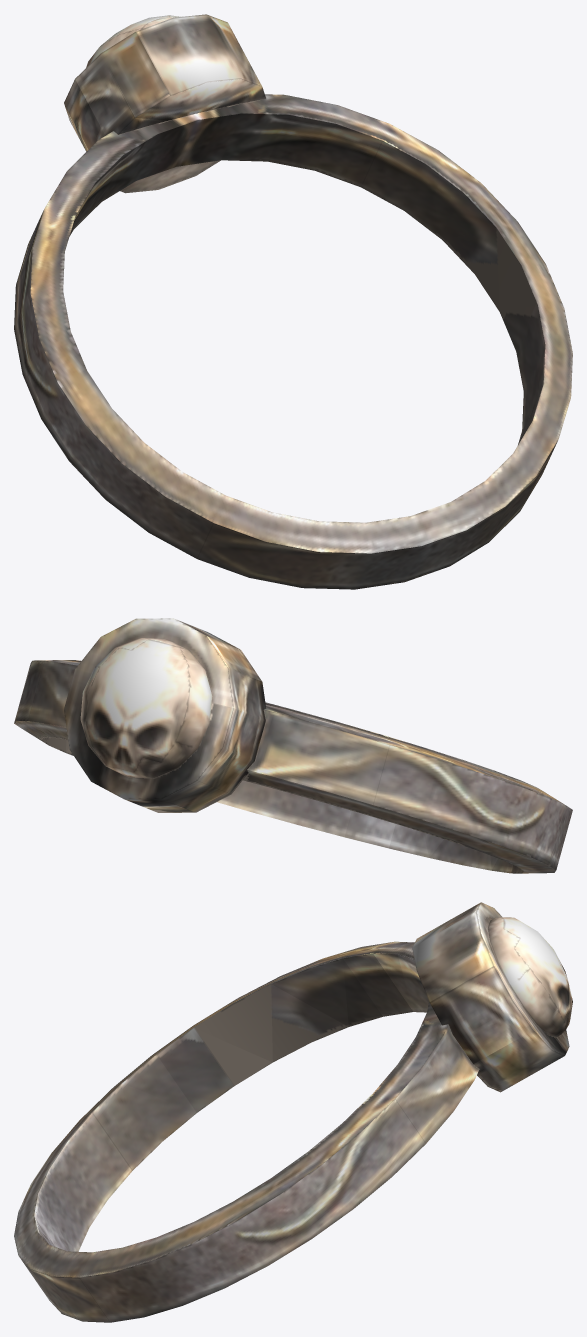
The model's file is item_mm9_10232.glb.
The picture shows the model from 3 angles, top to bottom: view 1: azimuth 30°, elevation 25°; view 2: azimuth 150°, elevation 25°; view 3: azimuth 270°, elevation 25°; orthographic projection. The views are drawn at different scales.
Visible parts, largest first — view 1: d10232; view 2: d10232; view 3: d10232.
Part boxes in pixels (x1,y1,x2,y2): d10232: (14,14,572,589); d10232: (14,618,572,873); d10232: (14,902,572,1322).
Bounding box in the file's own units: 27.13 × 21 × 28.8.
Materials: 1 (1 with a texture image).
